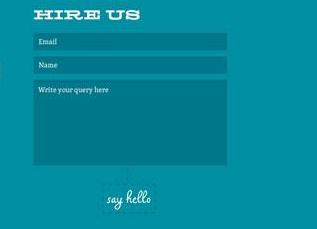button: (101, 183, 159, 215)
field: (33, 80, 229, 165), (33, 56, 227, 75), (33, 33, 228, 51)
